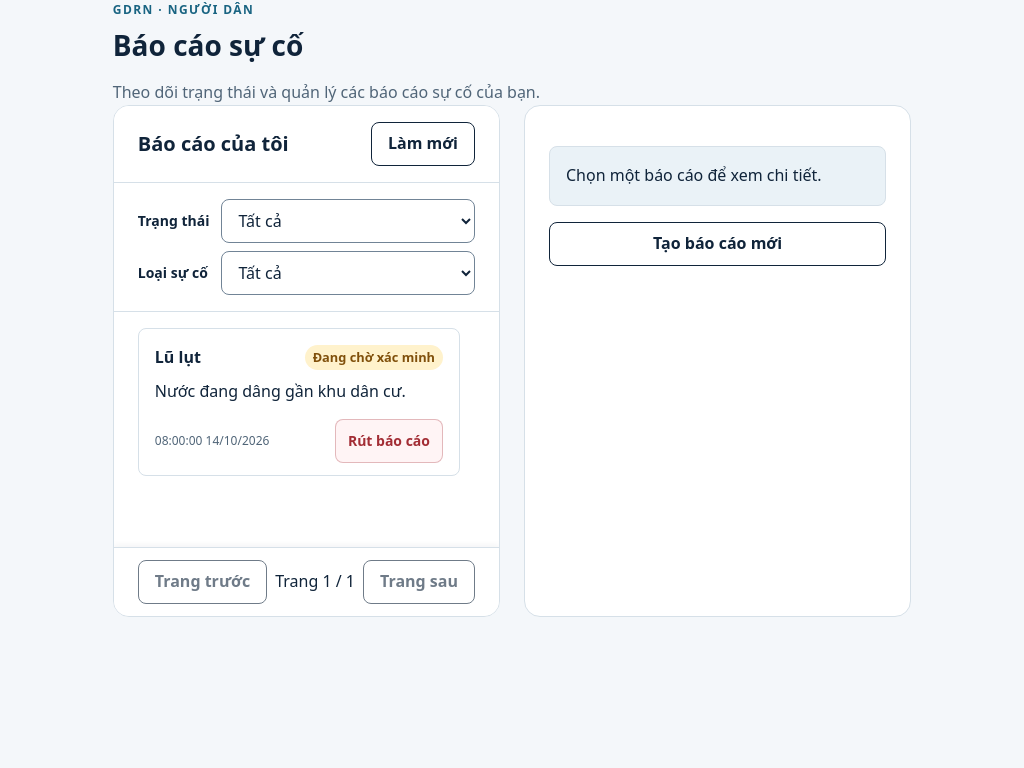
ReportingCitizenPage › withdraws a pending report and reloads the list
The width and height of the screenshot is (1024, 768).
Expected: the text "Nước đang dâng gần khu dân cư." is shown, 155,379 -> 443,403
Click the button "Rút báo cáo" at (389, 441), box 335,419 -> 443,463
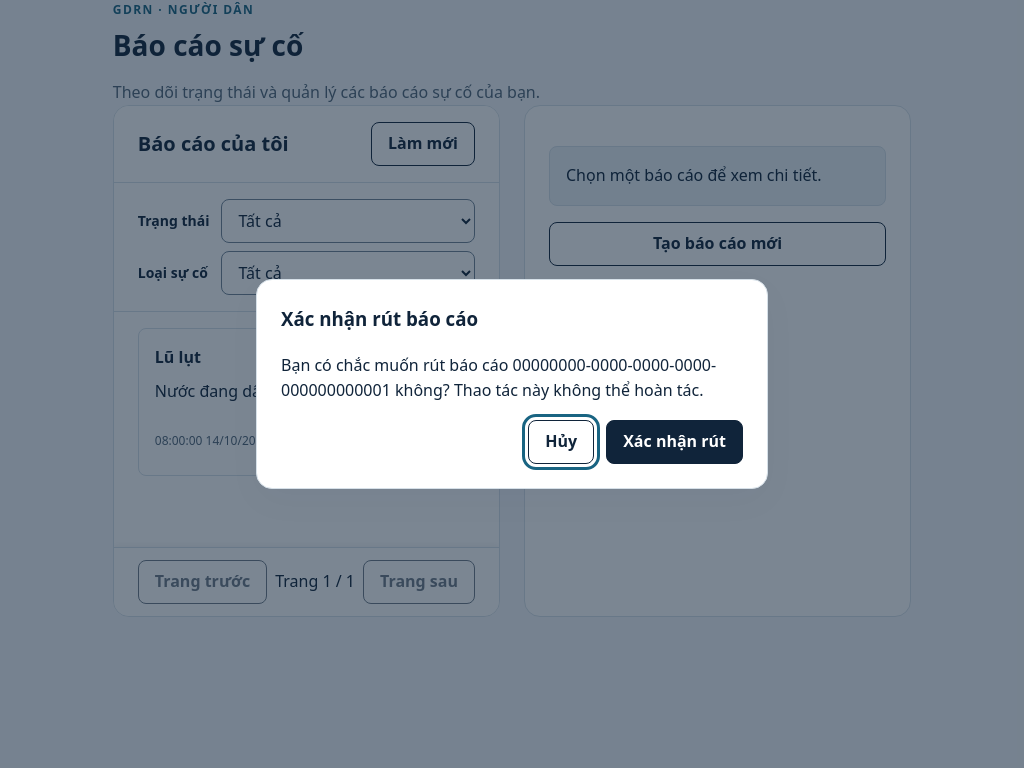
Click the button "Xác nhận rút" at (675, 442), box 606,420 -> 743,464
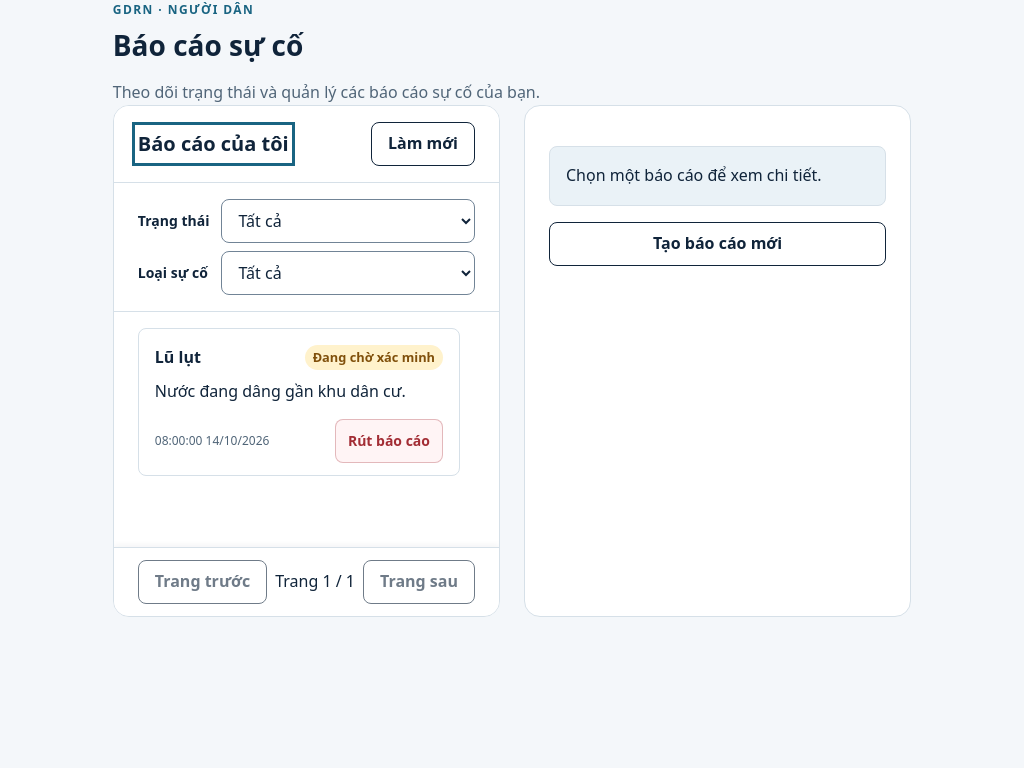
Expected: the dialog is gone
